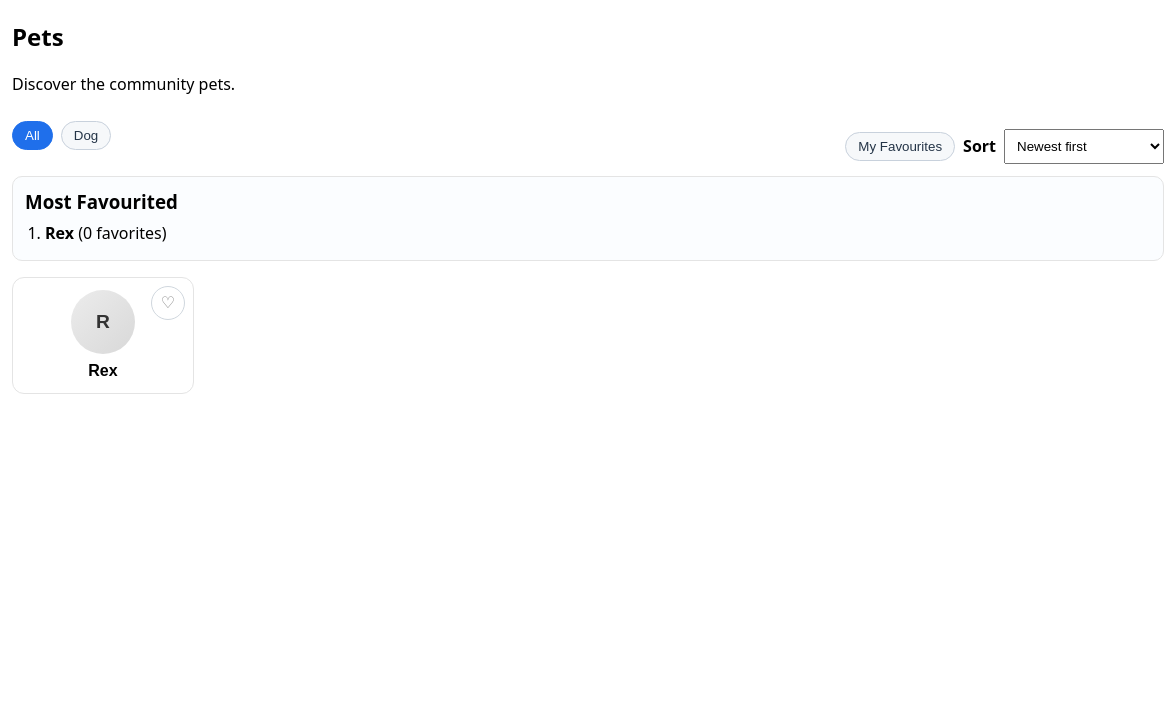
Home page › shows pet detail for logged-in users when card is clicked
Click the button "R Rex": (103, 335) [25,290,181,380]
(page scrolled)
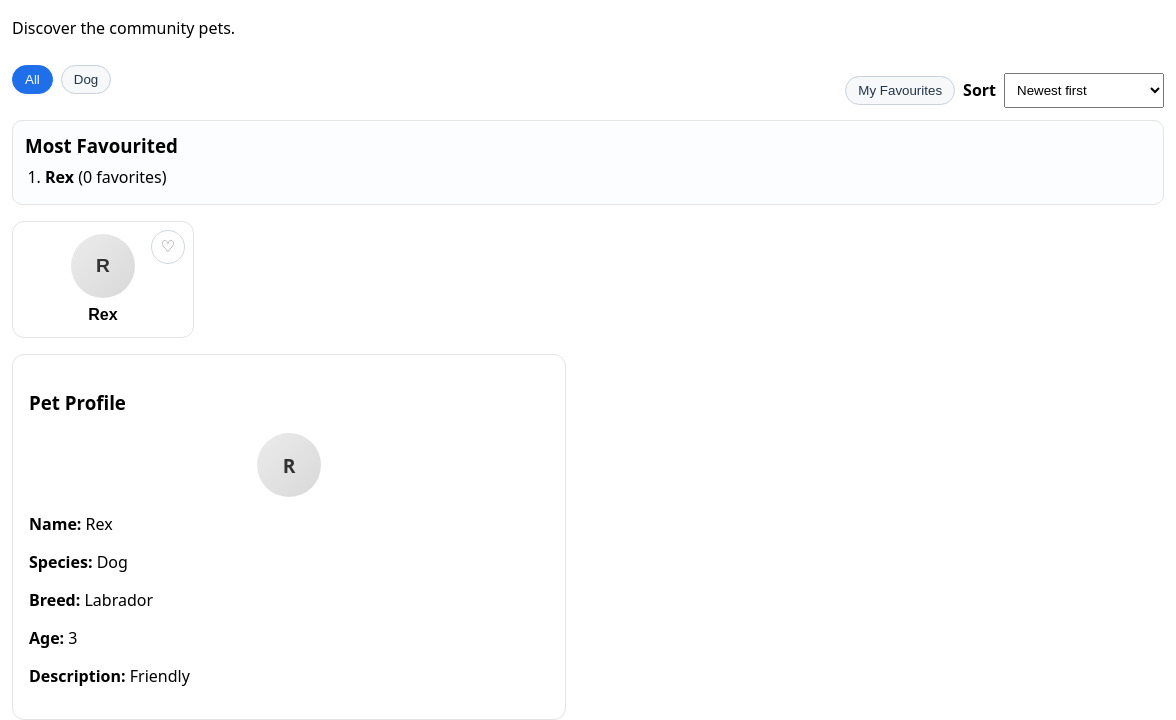
Expected: the text "Breed: Labrador" is shown, [29,589,153,611]
Expected: the text "Description: Friendly" is shown, [29,665,190,687]
